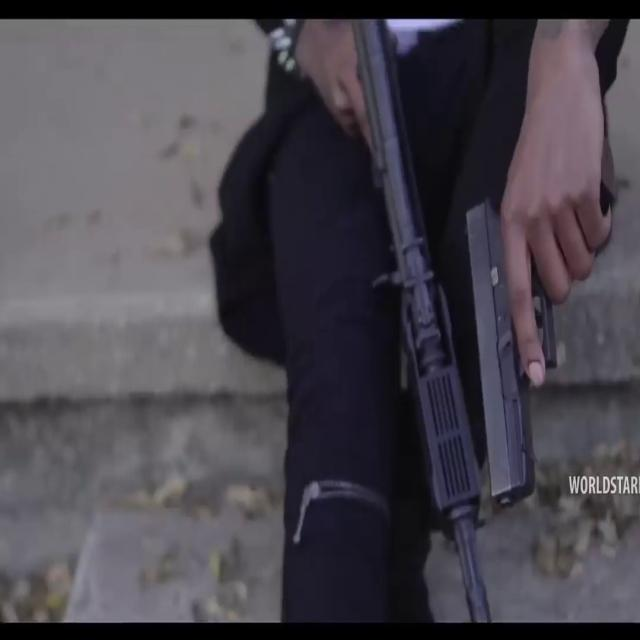Handgun: (465, 114, 619, 532)
Rifle: (309, 18, 457, 620)
